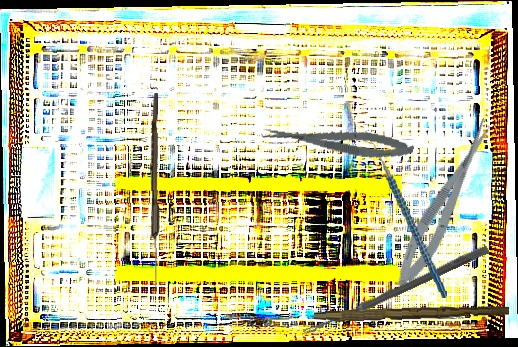Chopper: (359, 129, 448, 305)
Micro Scissor: (385, 114, 505, 295), (260, 117, 416, 164)
Scalpel Handle: (313, 301, 510, 327)
Surgical Spoon: (301, 243, 490, 339), (148, 93, 162, 288)
